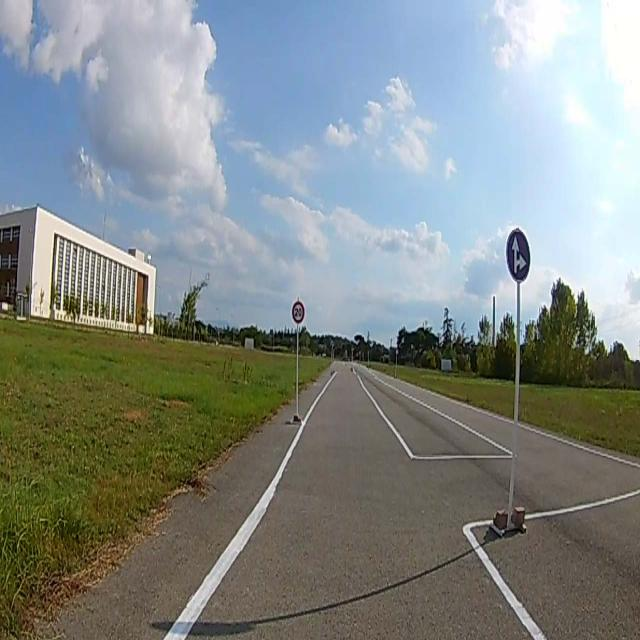20: (292, 302, 304, 324)
ilerisag: (506, 228, 531, 280)
